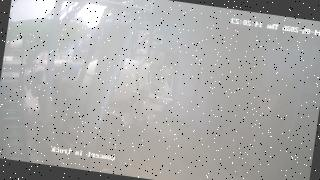cement_mixer_truck: (21, 42, 177, 148)
